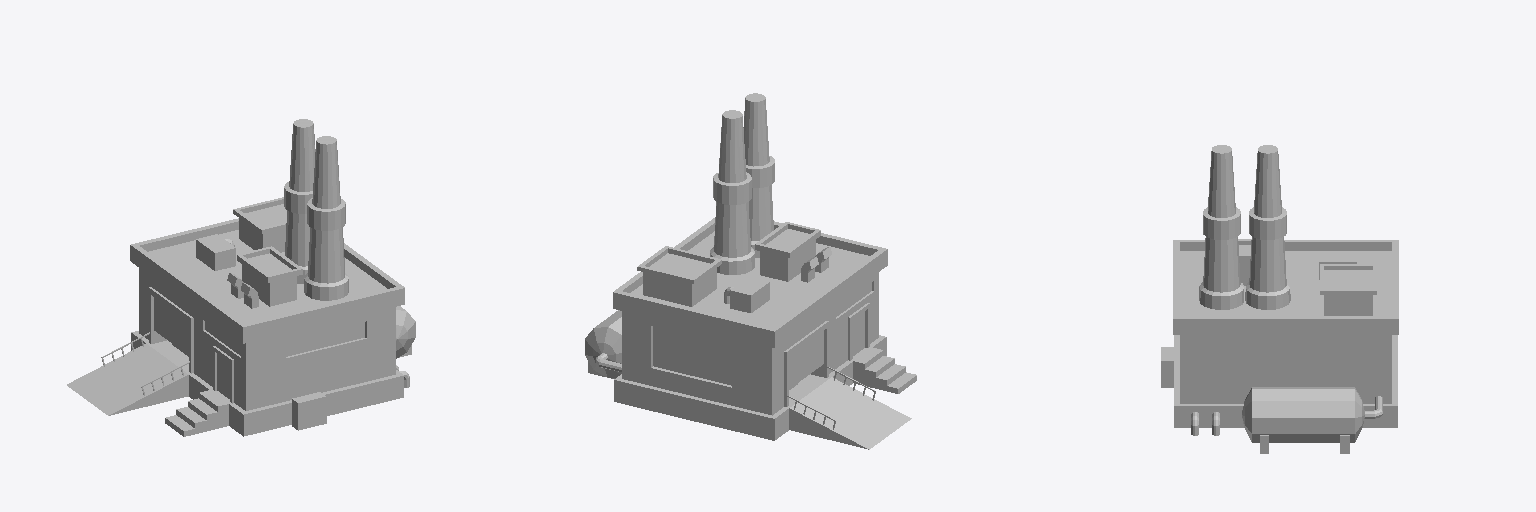
File: factory.obj
3 views of the same model, side by side, from view 1: azimuth 30°, elevation 25°; view 2: azimuth 150°, elevation 25°; view 3: azimuth 270°, elevation 25° (orthographic).
Visible parts, largest first — view 1: Factory; view 2: Factory; view 3: Factory.
Part boxes in pixels (bbox=[...]): Factory: bbox=[67, 119, 415, 436]; Factory: bbox=[585, 93, 916, 449]; Factory: bbox=[1161, 145, 1398, 453].
Size of the model in its own units: 59.29 by 49.31 by 41.87.